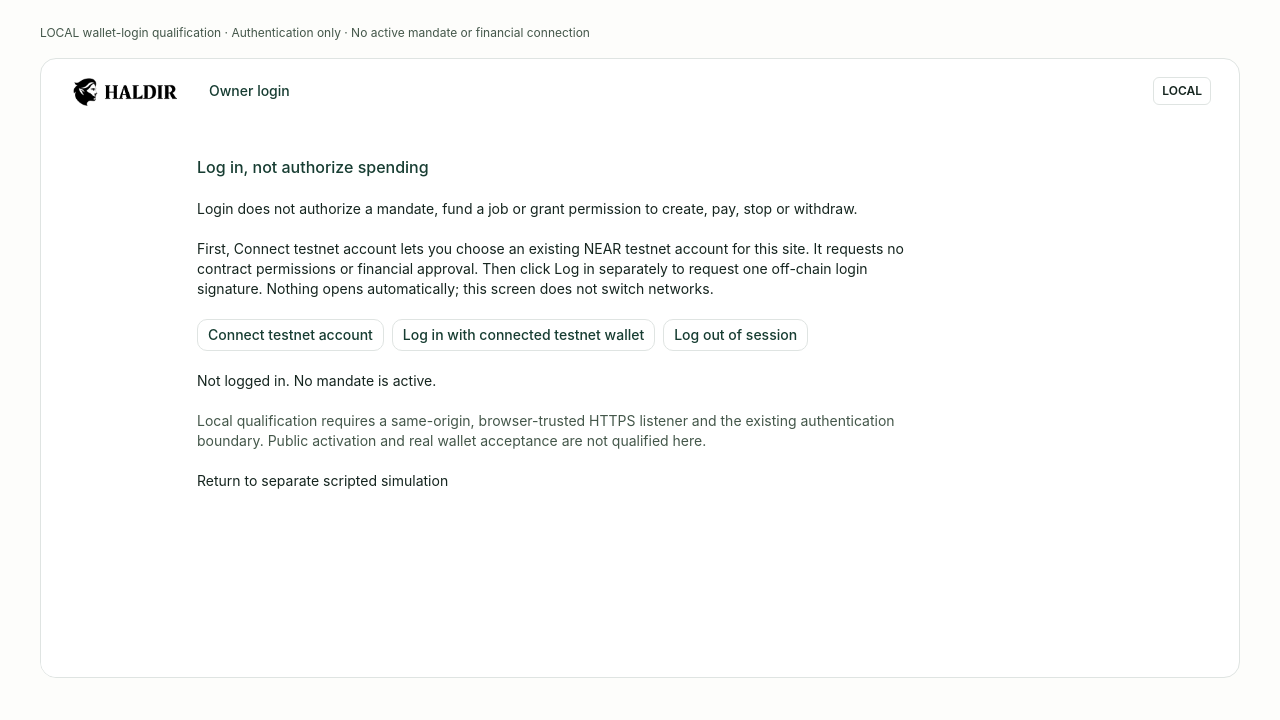
Scenario: mounted login-only control signs once on click, shows authenticated identity, and logs out without a wallet prompt
Expected: the text "Not logged in. No mandate is active." is shown, [197, 372, 436, 389]
Click the button "Log in with connected testnet wallet" at coordinates (523, 335), box [392, 319, 655, 351]
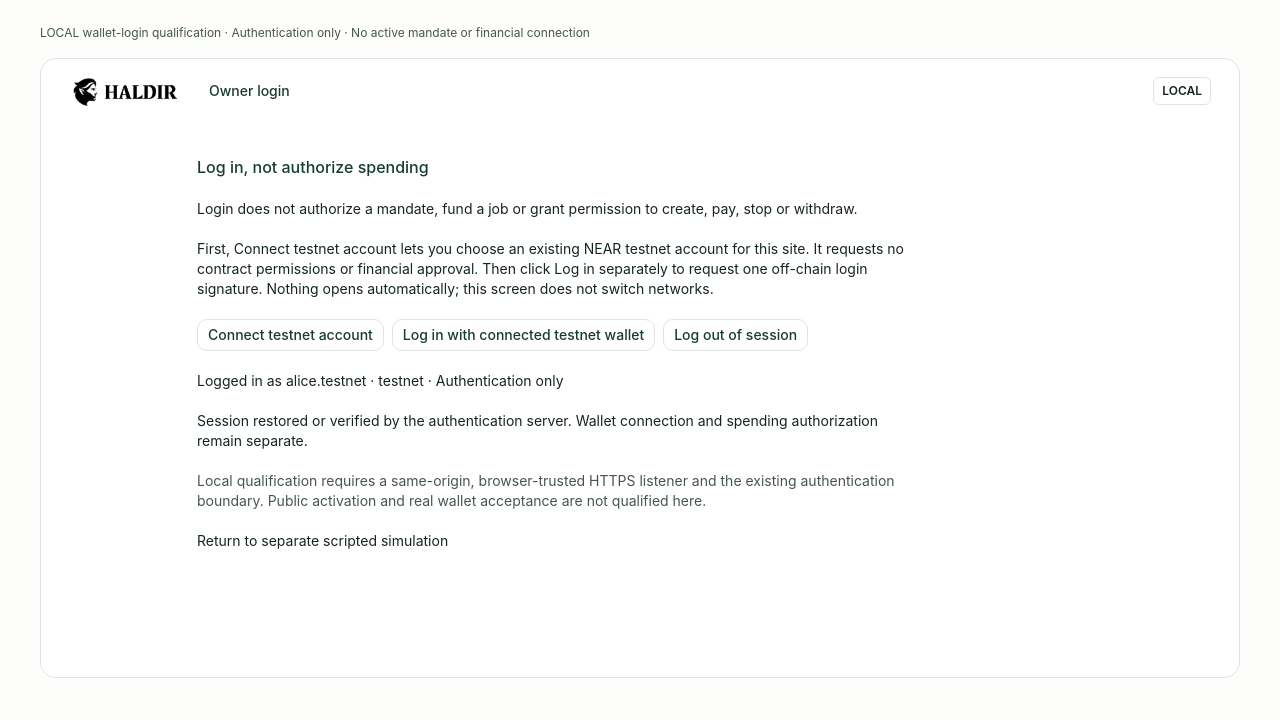
Result: the text "Logged in as alice.testnet · testnet · Authentication only" is shown at [197, 372, 564, 389]
Click the button "Log out of session" at coordinates (736, 335), box [663, 319, 808, 351]
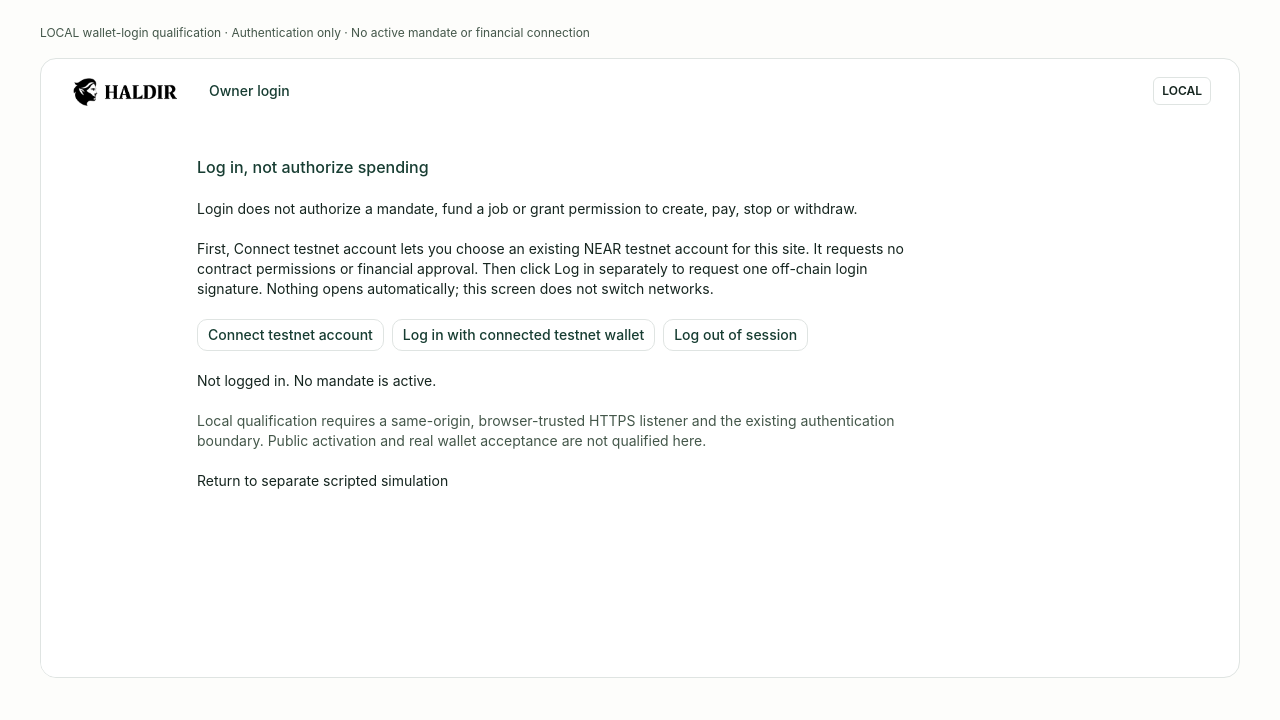
Result: the text "Not logged in. No mandate is active." is shown at [197, 372, 436, 389]
